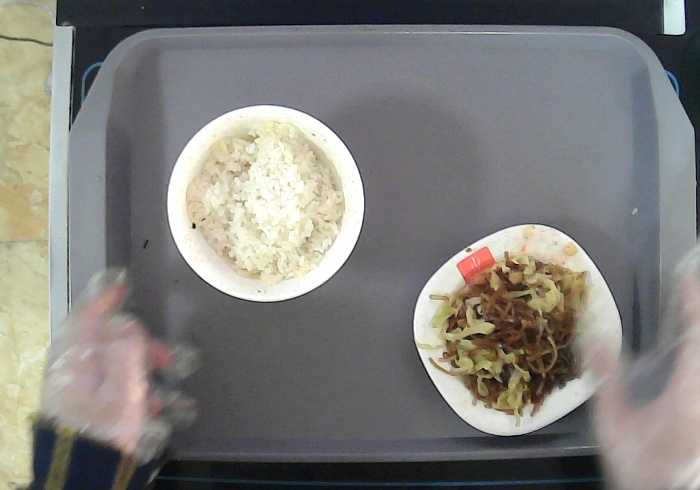SHKJ-Bai_Se_Si_Fang_Cai_Die: (410, 222, 625, 439)
SHKJ-Fan_Wan: (163, 104, 367, 302)
